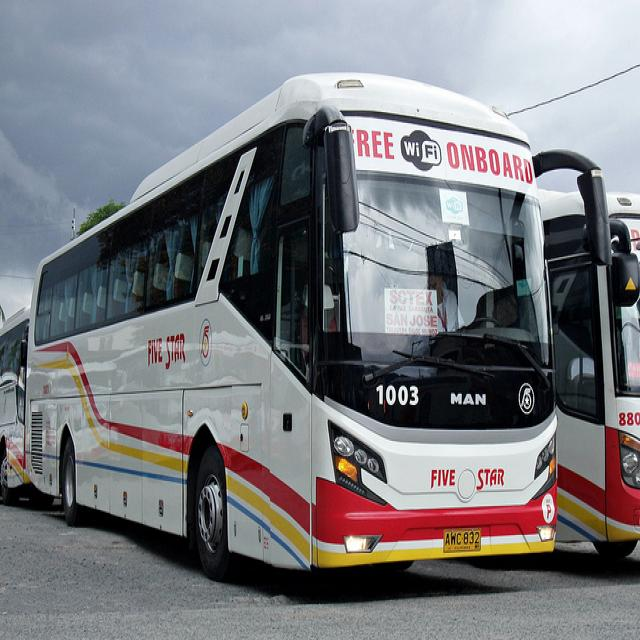Vehicle: (23, 63, 609, 590), (542, 185, 640, 552), (0, 300, 30, 503)
